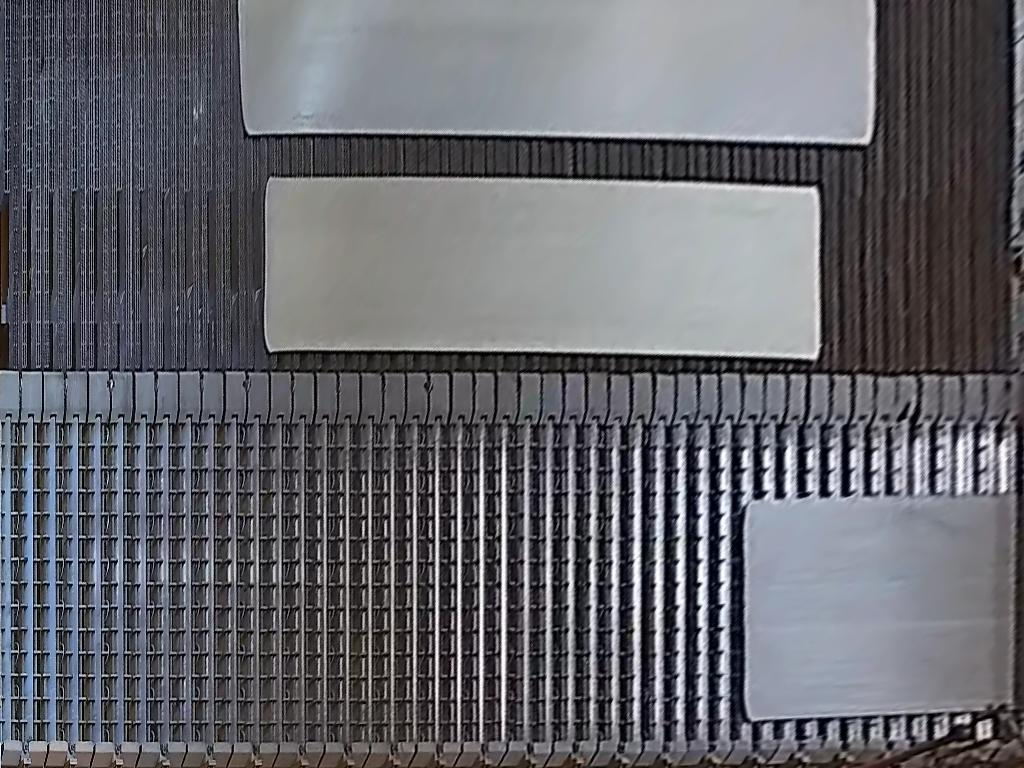steel: (261, 177, 822, 361), (238, 1, 877, 147), (744, 494, 1024, 724)
